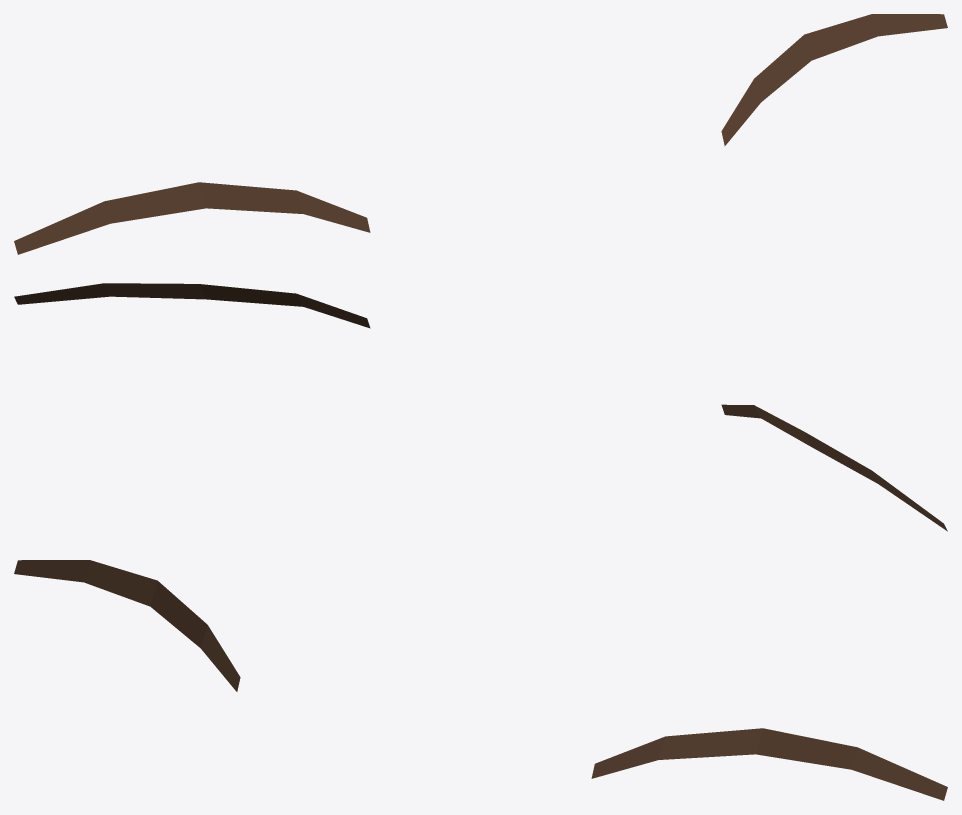
Rendered from finas.glb.
The picture shows the model from 3 angles, top to bottom: view 1: azimuth 30°, elevation 25°; view 2: azimuth 150°, elevation 25°; view 3: azimuth 330°, elevation 25°; orthographic projection.
Visible parts, largest first — view 1: EA_Sobrancelha_finas, EA_Sobrancelha_finas.001; view 2: EA_Sobrancelha_finas.001, EA_Sobrancelha_finas; view 3: EA_Sobrancelha_finas.001, EA_Sobrancelha_finas.
Boxes of the visible parts, left/top/right/bottom form: EA_Sobrancelha_finas: left=14, top=182, right=370, bottom=254; EA_Sobrancelha_finas.001: left=721, top=14, right=947, bottom=146; EA_Sobrancelha_finas.001: left=14, top=283, right=370, bottom=328; EA_Sobrancelha_finas: left=721, top=404, right=947, bottom=531; EA_Sobrancelha_finas.001: left=591, top=728, right=947, bottom=800; EA_Sobrancelha_finas: left=14, top=560, right=240, bottom=691.
Size of the model in its own units: 0.126 by 0.00617 by 0.0161.
